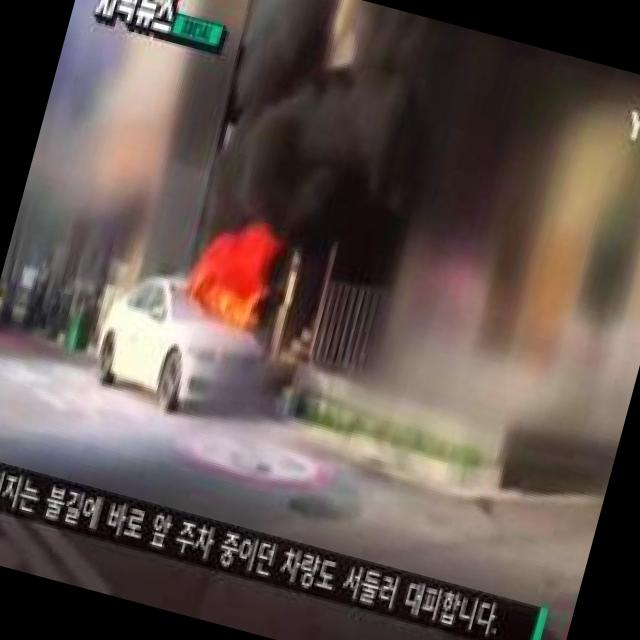Fire: (192, 220, 277, 327)
Smoke: (188, 0, 461, 259)
